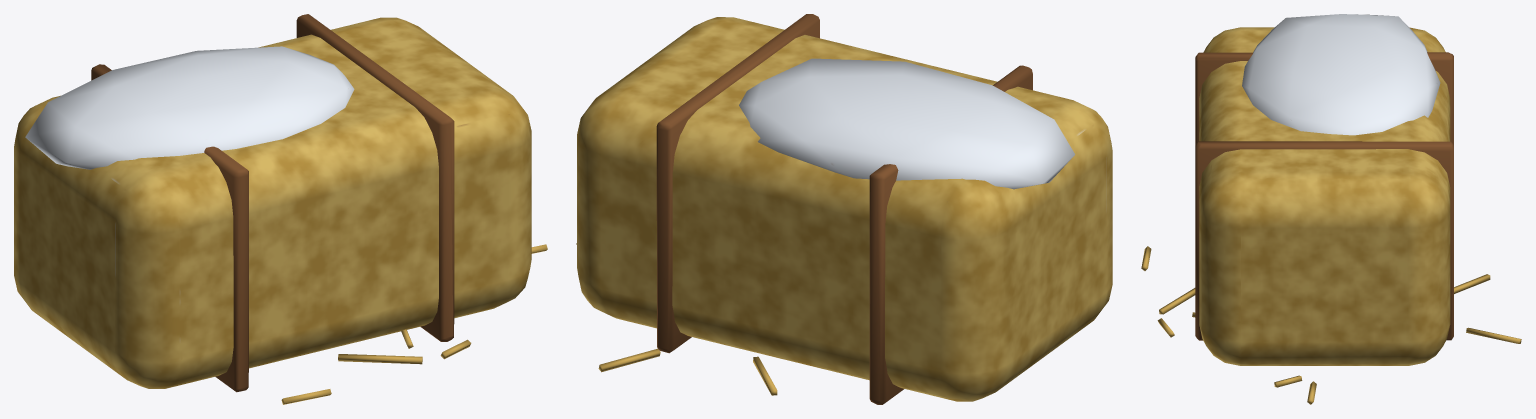
The model's file is hay_bale.glb.
The picture shows the model from 3 angles, left to right: view 1: azimuth 30°, elevation 25°; view 2: azimuth 150°, elevation 25°; view 3: azimuth 270°, elevation 25°; orthographic projection. The views are drawn at different scales.
Parts seen in each view (by area): view 1: bale; view 2: bale; view 3: bale.
Part boxes in pixels (left/top/right/bottom): bale: left=14, top=14, right=547, bottom=404; bale: left=576, top=14, right=1112, bottom=404; bale: left=1141, top=14, right=1521, bottom=404.
Size of the model in its own units: 1.18 by 0.5713 by 0.9087.
1 material, 1 textured.
